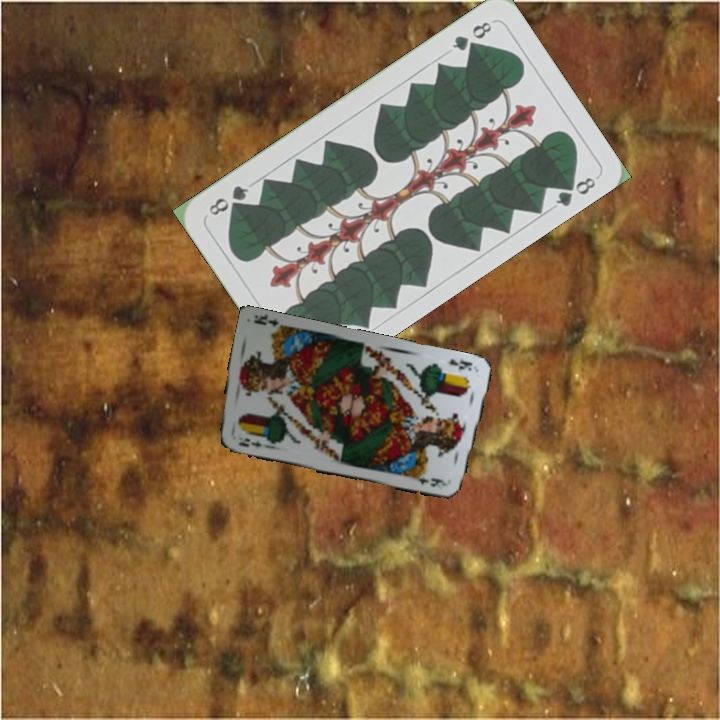EK: (444, 354, 475, 373), (235, 434, 264, 451)
G8: (447, 17, 495, 54)
